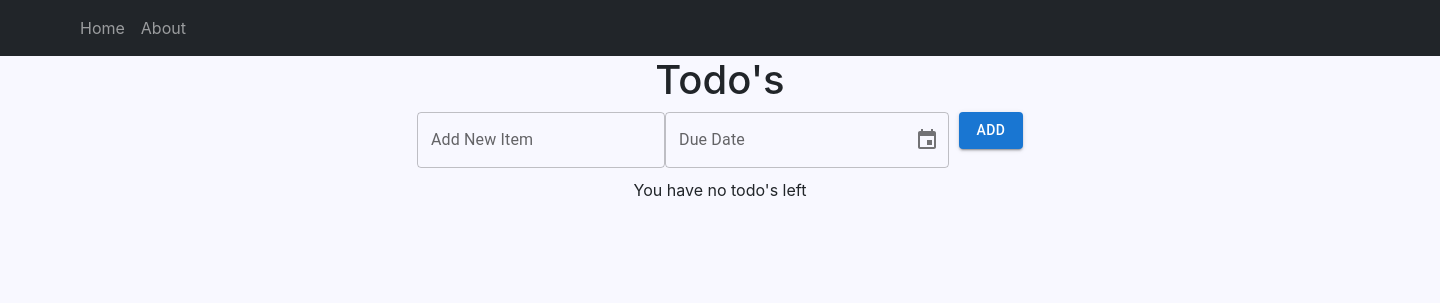
that App component can be deleted thru checkbox
This screenshot has width=1440, height=303.
In the field labelled "Add New Item": (541, 140) [417, 112, 665, 168], type "History Test"
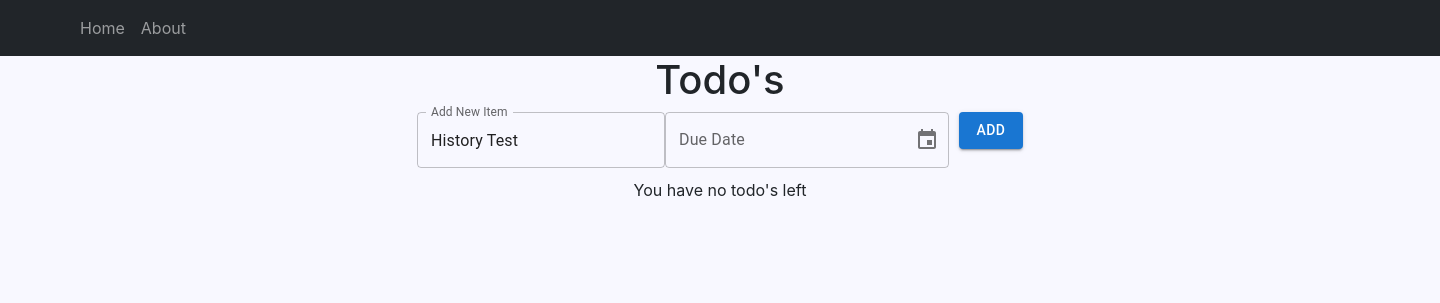
In the field with placeholder "mm/dd/yyyy": (782, 140) [665, 112, 899, 168], type "05/30/2023"
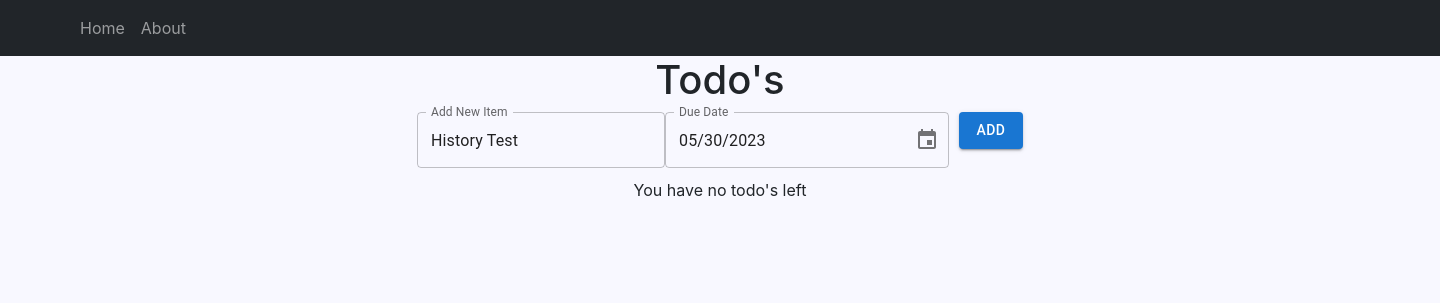
Click the button "Add": (991, 130) [959, 112, 1023, 148]
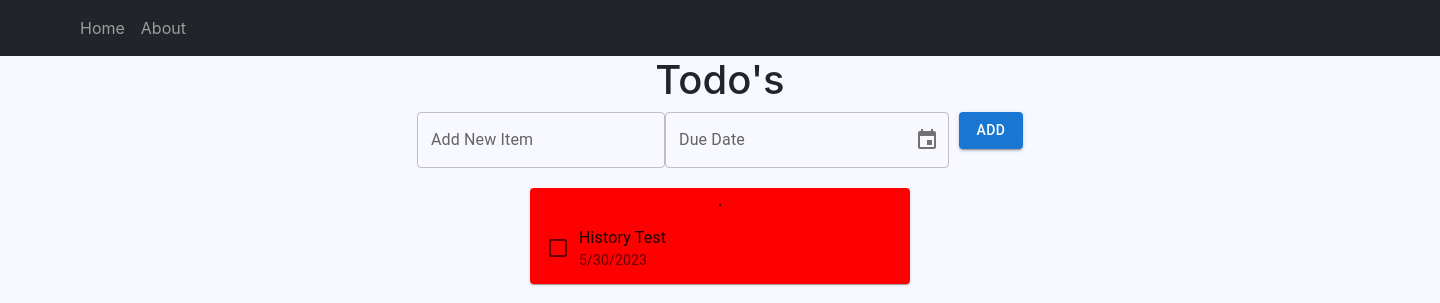
Click the checkbox: (558, 248) [546, 236, 570, 260]
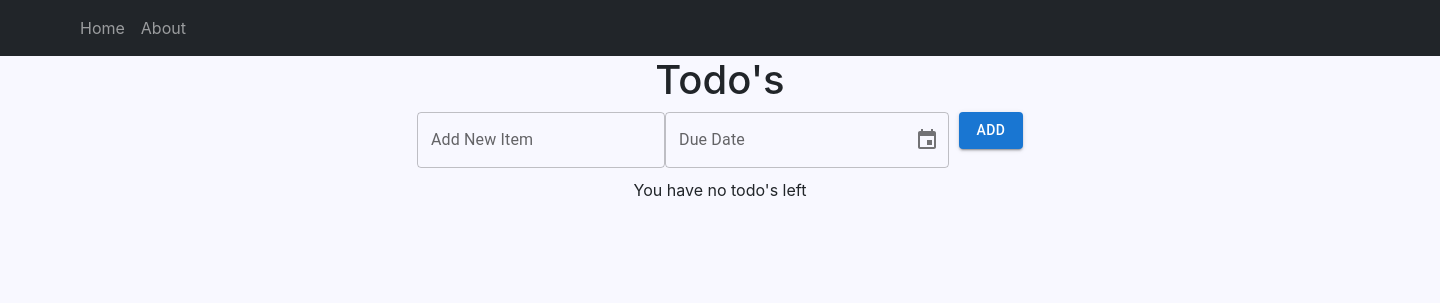
Expected: the link "History Test" is gone
